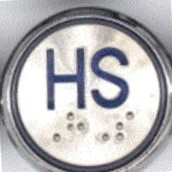Braille: (65, 112, 85, 143), (115, 111, 135, 142), (90, 112, 109, 142), (43, 113, 61, 143)
